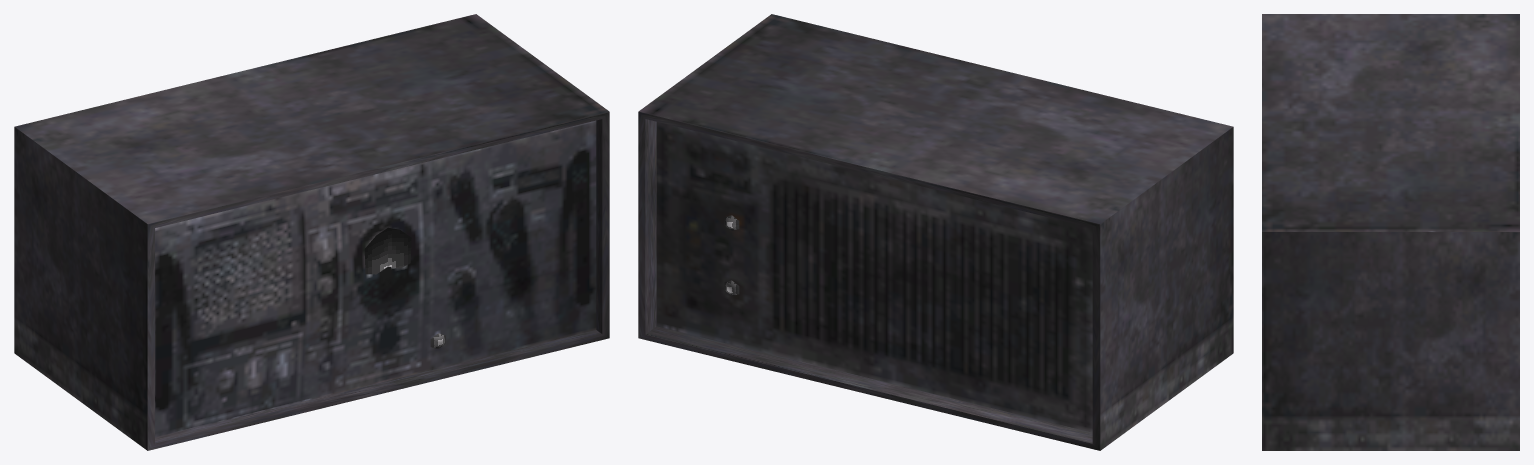
Rendered from Radio02.glb.
The picture shows the model from 3 angles, left to right: view 1: azimuth 30°, elevation 25°; view 2: azimuth 150°, elevation 25°; view 3: azimuth 270°, elevation 25°; orthographic projection. The views are drawn at different scales.
Parts seen in each view (by area): view 1: _Radio02; view 2: _Radio02; view 3: _Radio02.
Part boxes in pixels (box(x1,y1,x2,y2)): _Radio02: box(14, 14, 609, 450); _Radio02: box(638, 14, 1233, 450); _Radio02: box(1262, 14, 1519, 450).
Size of the model in its own units: 0.735 by 0.3447 by 0.3675.
Materials: 3 (3 with a texture image).
